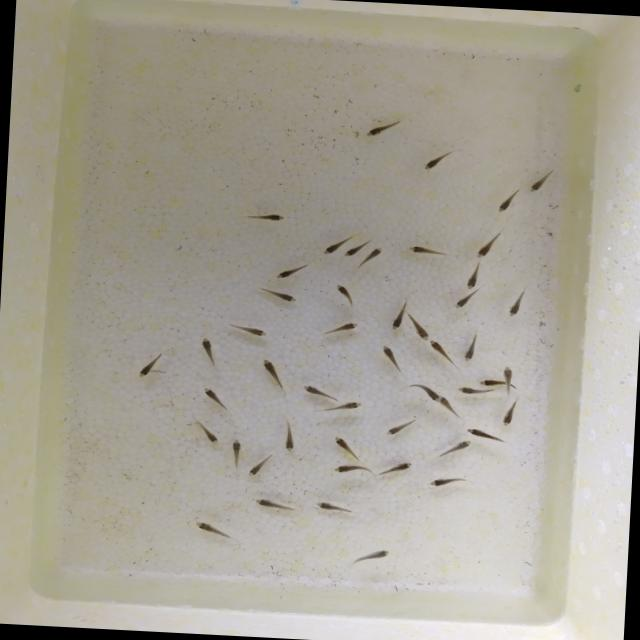fingerling: (188, 519, 235, 542), (433, 438, 478, 458), (362, 118, 399, 142), (327, 433, 362, 458), (260, 356, 284, 390), (471, 234, 500, 261), (196, 332, 219, 366), (348, 546, 396, 562), (528, 170, 556, 197), (408, 320, 437, 346), (325, 462, 372, 478), (224, 436, 248, 466), (406, 382, 442, 402), (201, 382, 227, 409), (458, 426, 499, 443), (324, 398, 370, 413), (245, 211, 294, 225), (452, 290, 483, 312), (252, 495, 292, 512), (382, 460, 422, 476), (459, 335, 480, 365), (199, 422, 223, 448), (408, 243, 447, 259), (136, 352, 158, 380), (318, 238, 350, 257), (363, 242, 388, 266), (428, 340, 455, 362), (300, 381, 332, 399), (385, 418, 412, 439), (308, 502, 354, 514), (378, 342, 401, 366), (423, 476, 468, 488), (390, 304, 408, 334), (465, 266, 484, 294), (326, 320, 363, 334), (274, 264, 306, 280), (246, 458, 272, 477), (500, 405, 522, 427), (239, 324, 272, 338), (498, 193, 518, 216), (266, 290, 304, 302), (342, 243, 368, 260), (284, 423, 298, 454), (437, 396, 461, 414), (334, 282, 354, 302), (455, 385, 490, 396), (502, 364, 518, 387), (510, 292, 522, 320), (422, 156, 443, 172), (479, 377, 504, 388)
